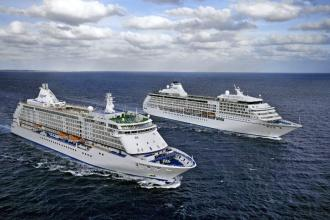youlun: (3, 82, 202, 183), (145, 79, 306, 142)
